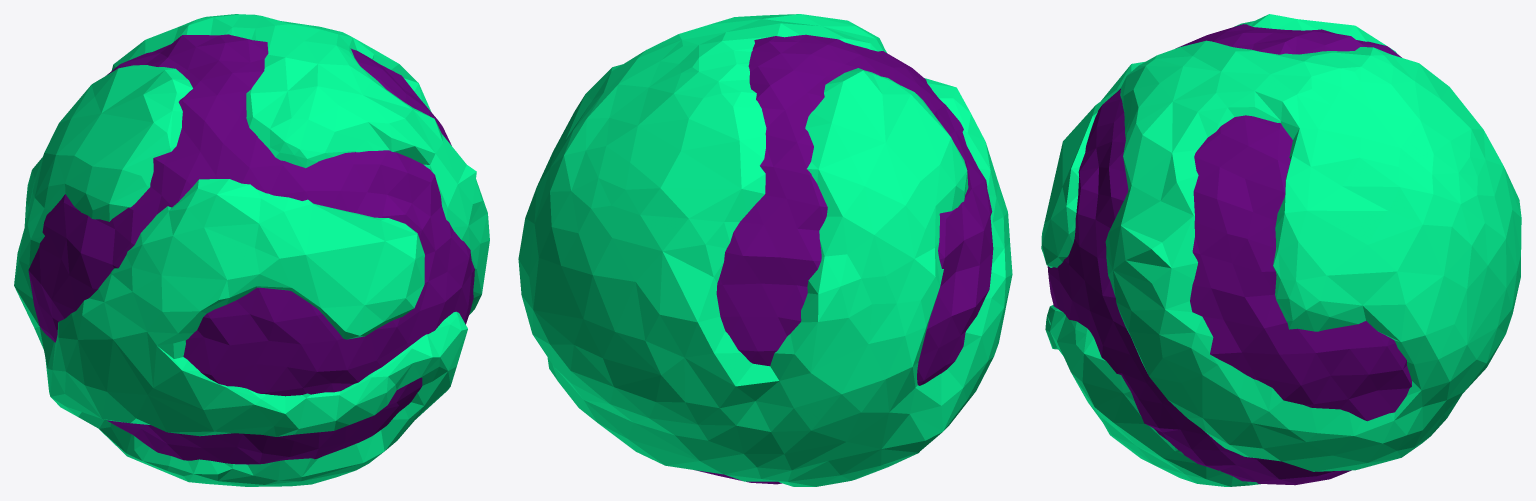
The model's file is crazy_planet.glb.
The picture shows the model from 3 angles, left to right: view 1: azimuth 30°, elevation 25°; view 2: azimuth 150°, elevation 25°; view 3: azimuth 270°, elevation 25°; orthographic projection. The views are drawn at different scales.
Parts seen in each view (by area): view 1: CRAZY_PLANET_HIGLIGHT_1, CRAZY_PLANET_BASE_1; view 2: CRAZY_PLANET_HIGLIGHT_1, CRAZY_PLANET_BASE_1; view 3: CRAZY_PLANET_HIGLIGHT_1, CRAZY_PLANET_BASE_1.
Part boxes in pixels (x1,y1,x2,y2): CRAZY_PLANET_HIGLIGHT_1: (14, 14, 489, 486); CRAZY_PLANET_BASE_1: (28, 34, 474, 464); CRAZY_PLANET_HIGLIGHT_1: (518, 14, 1012, 486); CRAZY_PLANET_BASE_1: (694, 34, 993, 484); CRAZY_PLANET_HIGLIGHT_1: (1041, 14, 1521, 486); CRAZY_PLANET_BASE_1: (1047, 24, 1411, 485).
Bounding box in the file's own units: 2.07 × 2.07 × 2.12.
Materials: 1 (1 with a texture image).
